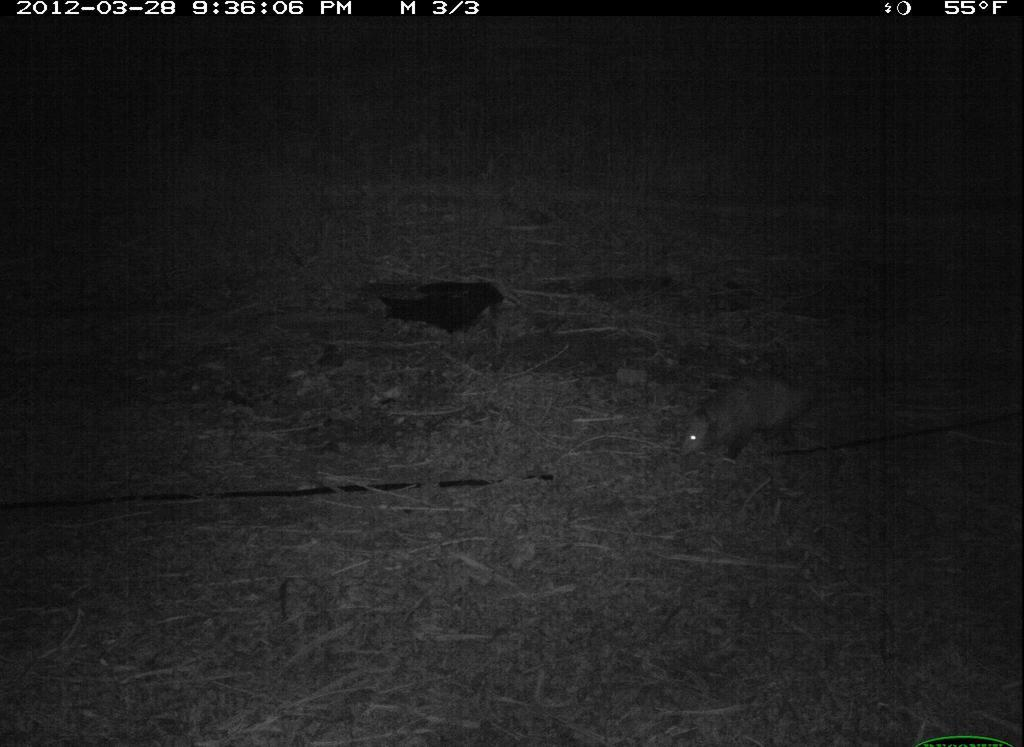opossum: (669, 364, 829, 475)
